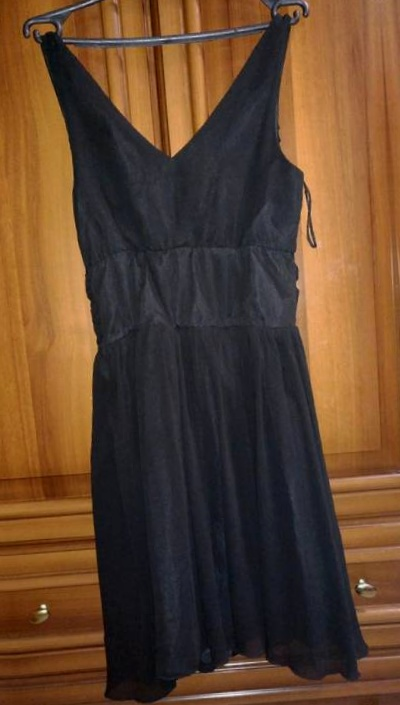Dress: (12, 0, 396, 705)
